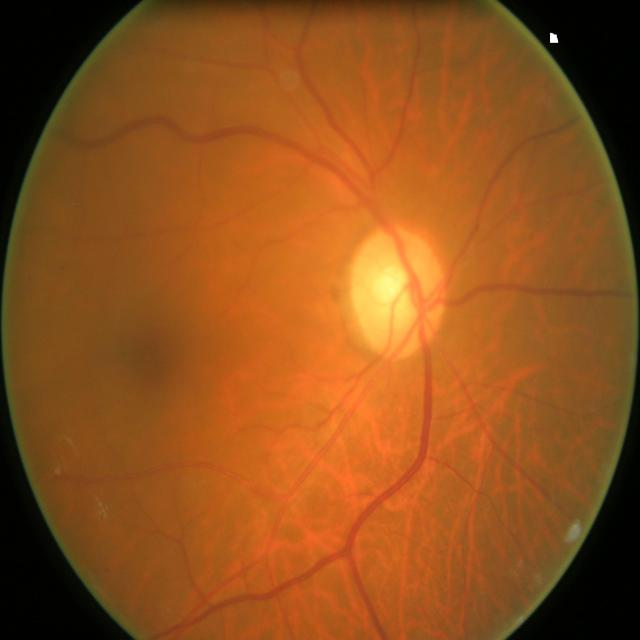OC: (373, 266, 410, 314)
OD: (350, 231, 445, 354)
